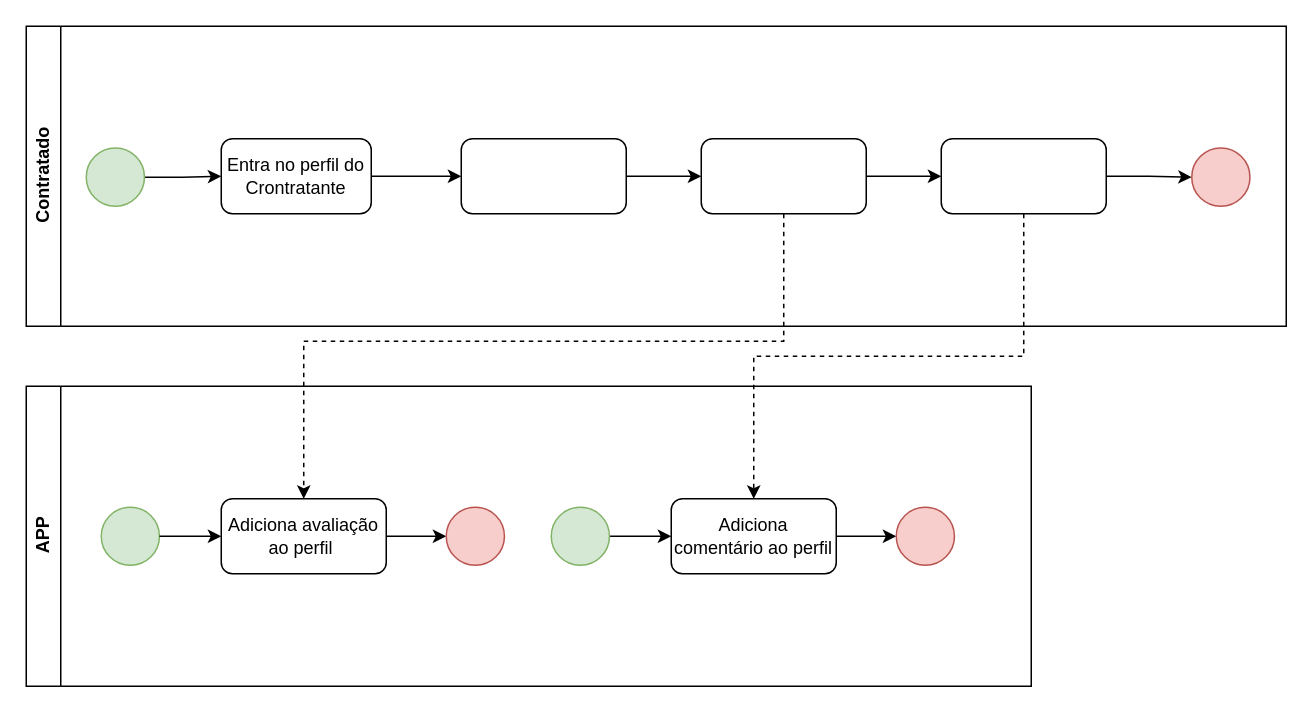
Some shapes in this 1313 by 713 pixel diagram are drawn without their labels. Here are the shapes that lost their labels. From the top down, the centre of each, then its label:
At pixel 543 175: "Entre na área de avaliação".
At pixel 783 175: "Avalie o Contratante".
At pixel 1023 175: "Comente sobre Contratante".
